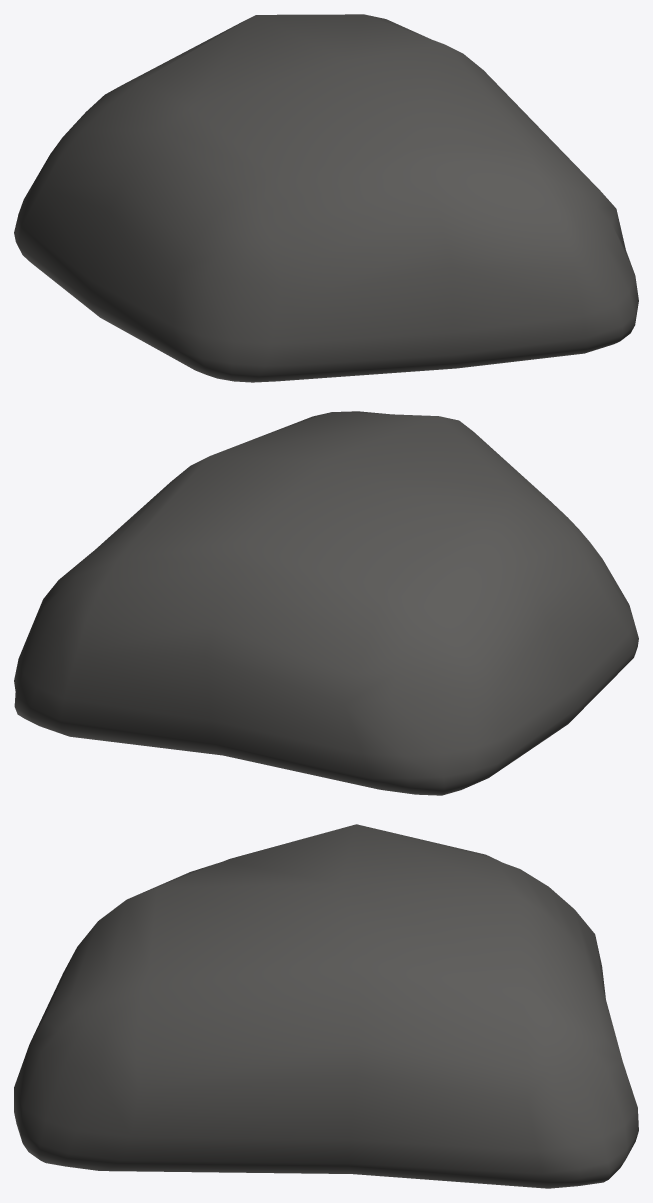
File: Stone04.fbx
3 renders of one model, top to bottom at view 1: azimuth 30°, elevation 25°; view 2: azimuth 150°, elevation 25°; view 3: azimuth 270°, elevation 25°, orthographic. The views are drawn at different scales.
Visible parts, largest first — view 1: Stone04; view 2: Stone04; view 3: Stone04.
Boxes of the visible parts, x1,y1,x2,y2 form: Stone04: [14, 14, 638, 382]; Stone04: [14, 411, 638, 795]; Stone04: [14, 824, 638, 1188].
Size of the model in its own units: 193 by 83.35 by 221.
